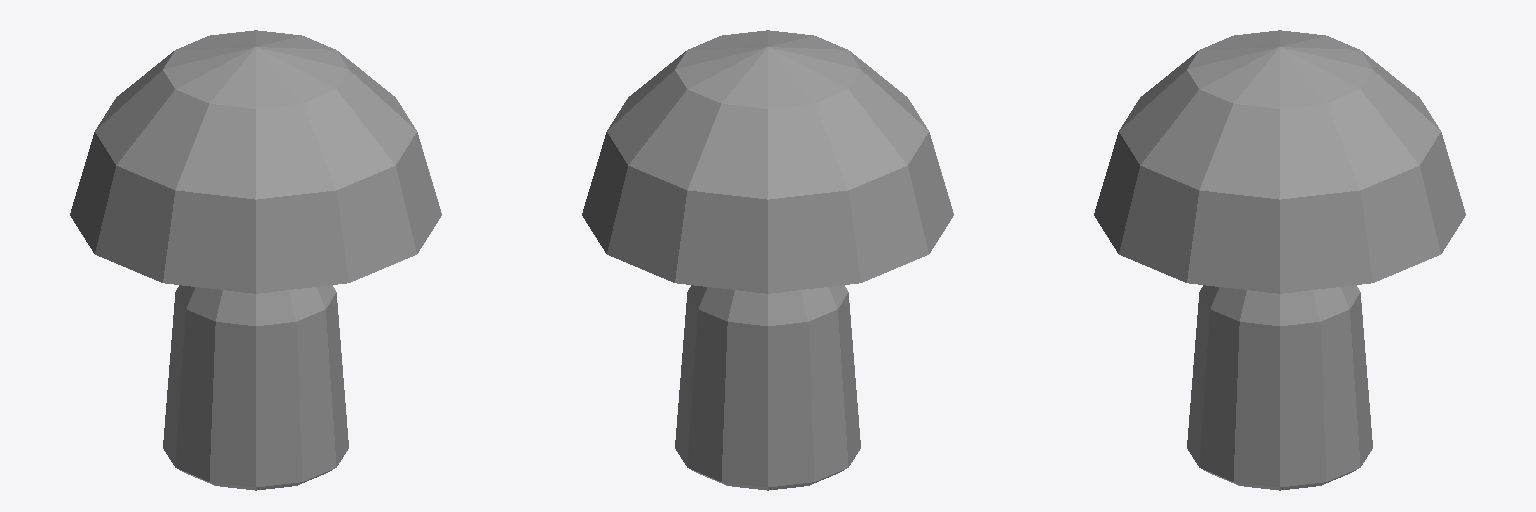
File: mushroomg7.obj
The picture shows the model from 3 angles: view 1: azimuth 30°, elevation 25°; view 2: azimuth 150°, elevation 25°; view 3: azimuth 270°, elevation 25°; orthographic projection.
Parts seen in each view (by area): view 1: Sphere.005; view 2: Sphere.005; view 3: Sphere.005.
Part boxes in pixels (left/top/right/bottom): Sphere.005: left=70, top=30, right=441, bottom=490; Sphere.005: left=582, top=30, right=953, bottom=490; Sphere.005: left=1094, top=30, right=1465, bottom=490.
Size of the model in its own units: 0.7 by 0.8666 by 0.7.